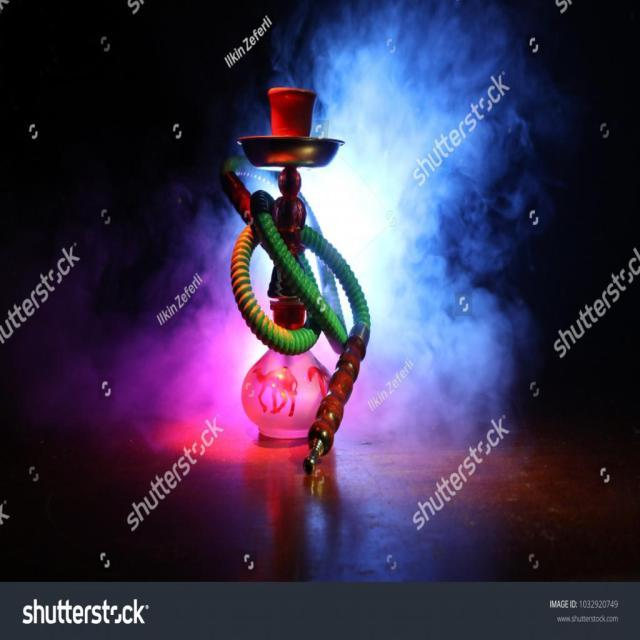smoking: (211, 80, 385, 480)
